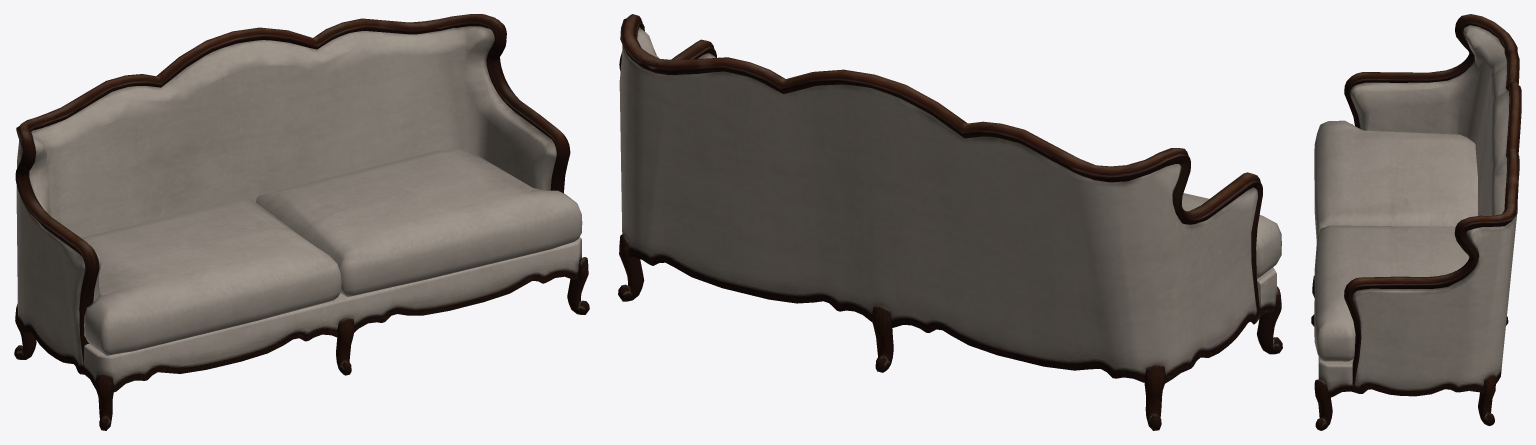
The model's file is Sofa_01.glb.
3 renders of one model, left to right at view 1: azimuth 30°, elevation 25°; view 2: azimuth 150°, elevation 25°; view 3: azimuth 270°, elevation 25°, orthographic. The views are drawn at different scales.
Parts seen in each view (by area): view 1: Sofa_01; view 2: Sofa_01; view 3: Sofa_01.
Boxes of the visible parts, x1,y1,x2,y2 form: Sofa_01: [14, 14, 589, 430]; Sofa_01: [618, 14, 1282, 430]; Sofa_01: [1311, 14, 1521, 430].
Bounding box in the file's own units: 1.57 × 0.7969 × 0.6579.
Materials: 1 (1 with a texture image).
